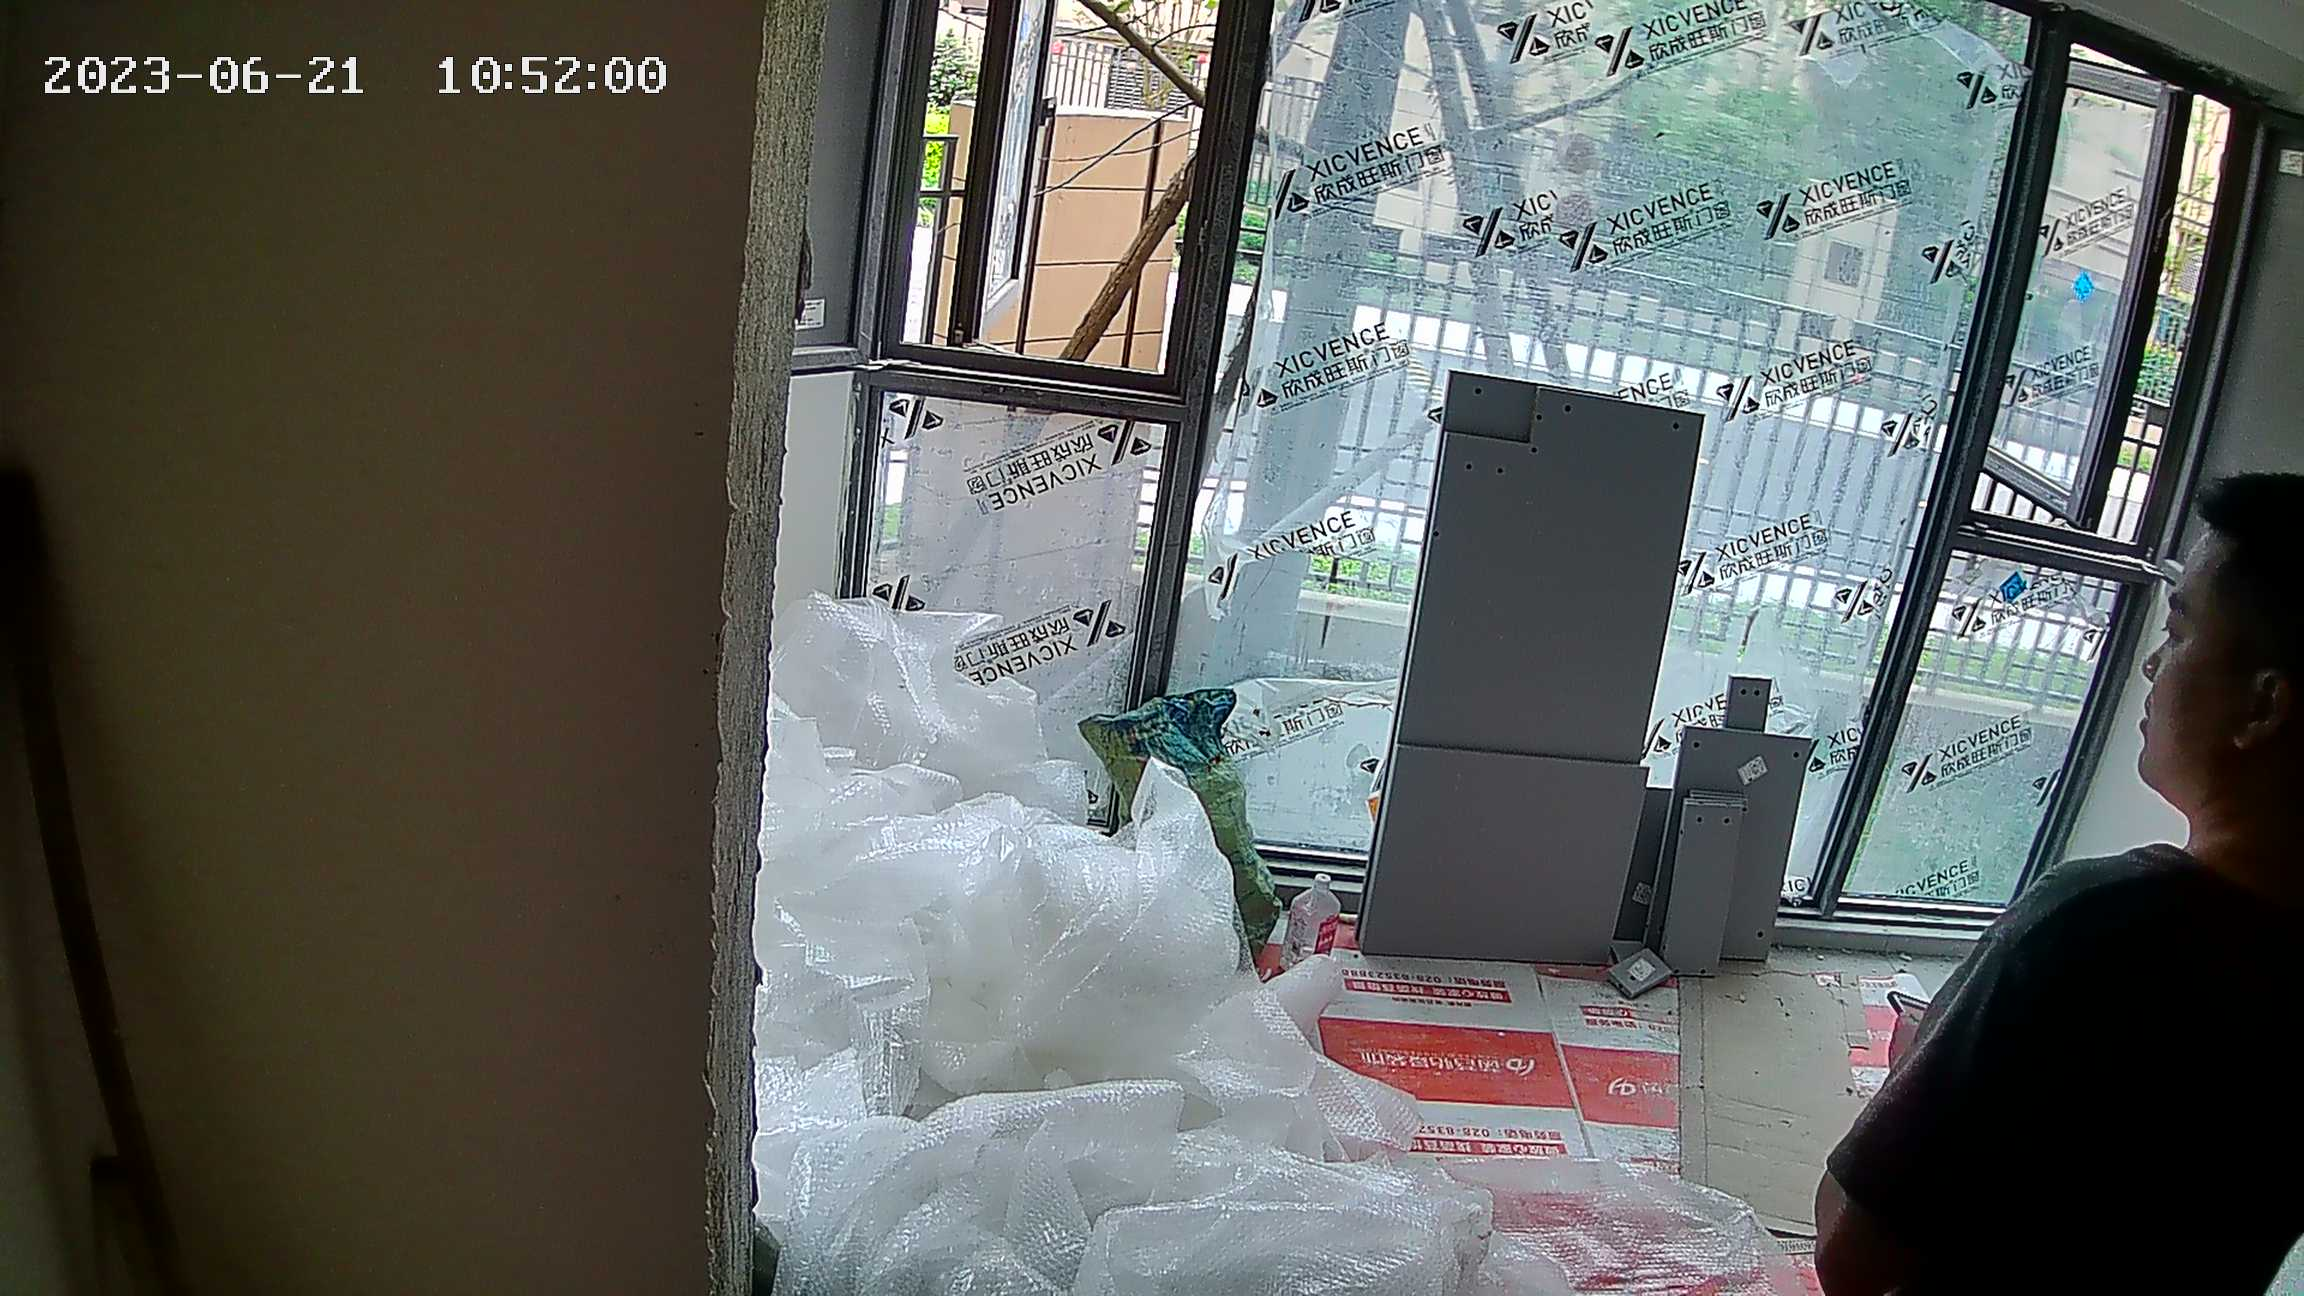people: (1830, 468, 2292, 1286)
window: (824, 6, 2244, 871)
